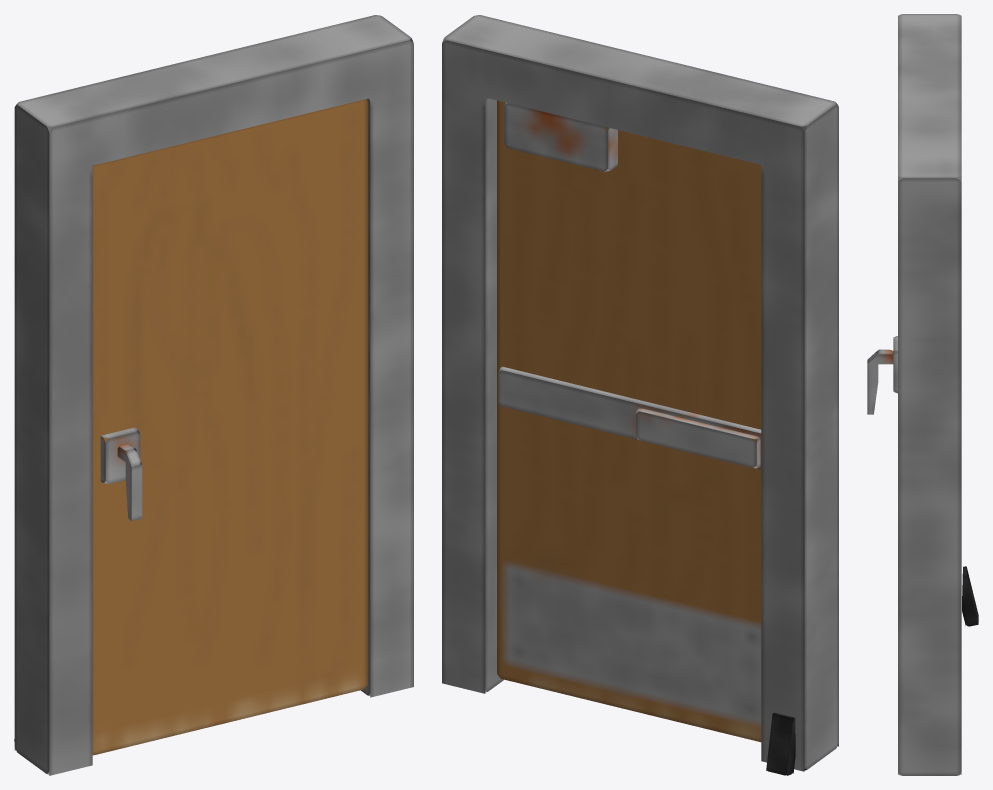
File: doorFacility.obj
3 views of the same model, side by side, from view 1: azimuth 30°, elevation 25°; view 2: azimuth 150°, elevation 25°; view 3: azimuth 270°, elevation 25° (orthographic). The views are drawn at different scales.
Visible parts, largest first — view 1: door, doorFrame, turnHandle; view 2: door, doorFrame, pushHandle, block, doorStop; view 3: doorFrame, turnHandle, doorStop.
Part boxes in pixels (x1,y1,x2,y2): door: (92,99,367,755); doorFrame: (14,15,413,775); turnHandle: (100,427,142,520); door: (497,100,761,742); doorFrame: (442,15,838,771); pushHandle: (498,366,761,469); block: (504,102,617,171); doorStop: (766,712,795,775); doorFrame: (898,14,961,775); turnHandle: (867,336,897,414); doorStop: (962,566,978,626).
Size of the model in its own units: 1.31 by 2.24 by 0.376.
